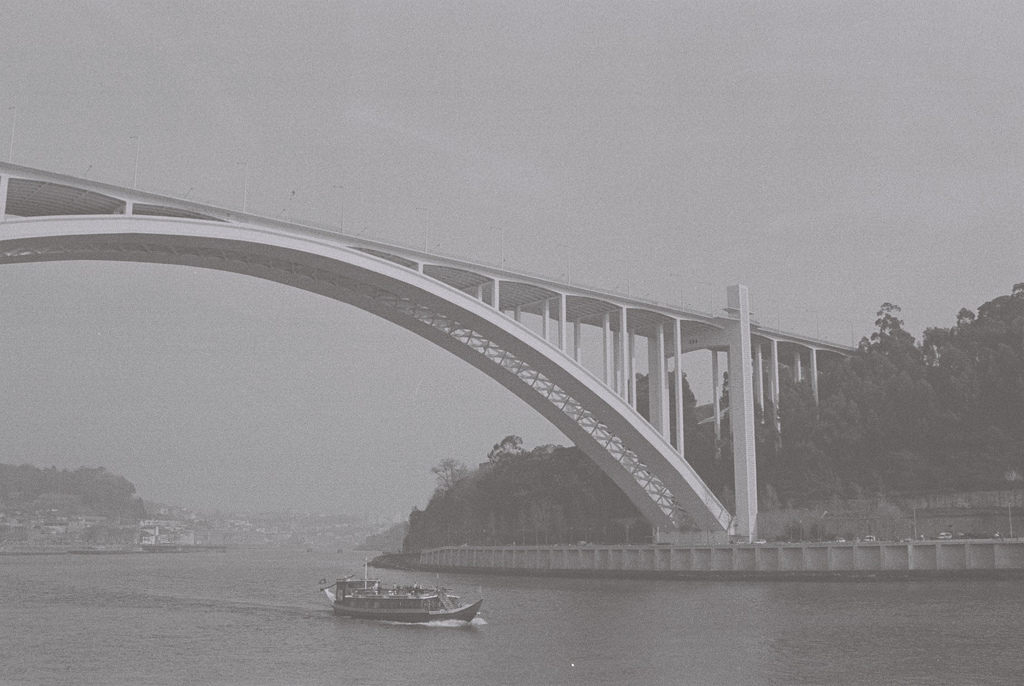arrabida: (0, 158, 858, 546)
